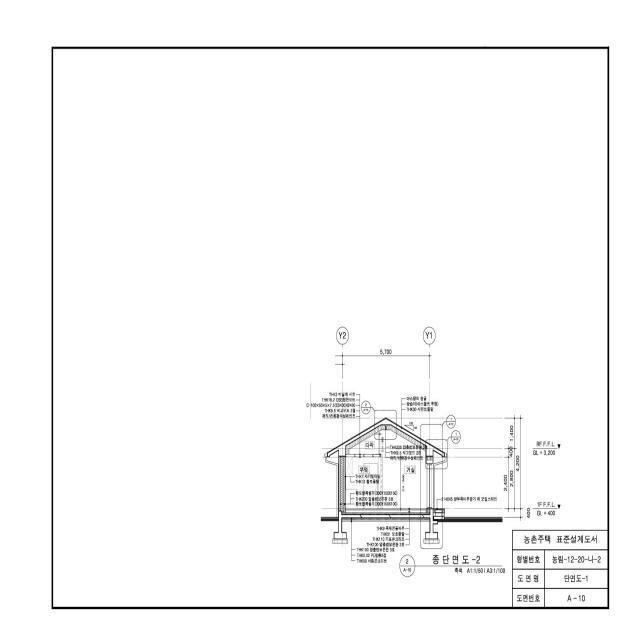space_kitchen: (346, 457, 381, 509)
space_living_room: (381, 425, 426, 509)
space_other: (346, 425, 381, 454)
